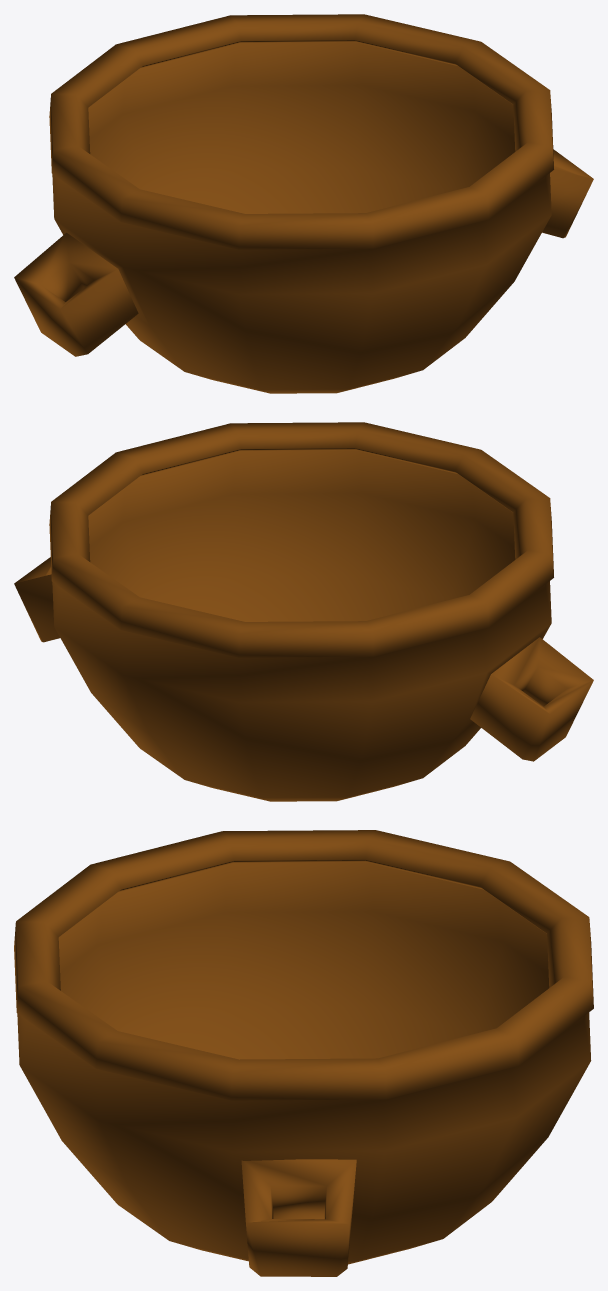
The model's file is bronzePot.glb.
3 renders of one model, top to bottom at view 1: azimuth 30°, elevation 25°; view 2: azimuth 150°, elevation 25°; view 3: azimuth 270°, elevation 25°, orthographic. The views are drawn at different scales.
Parts seen in each view (by area): view 1: Circle, Circle.002; view 2: Circle, Circle.002; view 3: Circle, Circle.002.
Boxes of the visible parts, x1,y1,x2,y2 form: Circle: [49, 14, 553, 393]; Circle.002: [14, 149, 593, 356]; Circle: [49, 422, 553, 801]; Circle.002: [14, 557, 593, 761]; Circle: [14, 830, 593, 1264]; Circle.002: [241, 1159, 356, 1276].
Size of the model in its own units: 0.3663 by 0.1453 by 0.2987.
